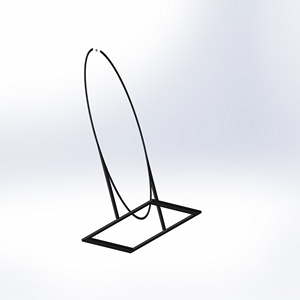circle: (78, 44, 204, 254)
